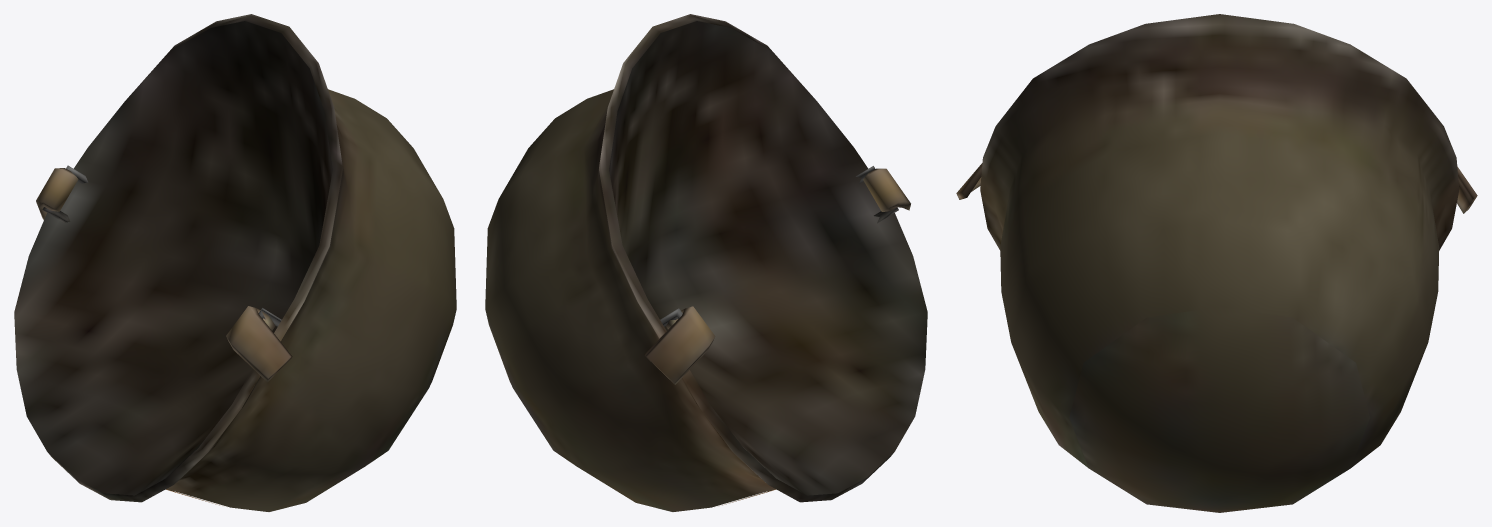
The model's file is helmet_us_wet_ranger_generic_low.glb.
3 views of the same model, side by side, from view 1: azimuth 30°, elevation 25°; view 2: azimuth 150°, elevation 25°; view 3: azimuth 270°, elevation 25° (orthographic). The views are drawn at different scales.
Bounding box in the file's own units: 9.73 × 11.77 × 11.05.
Materials: 2 (2 with a texture image).
